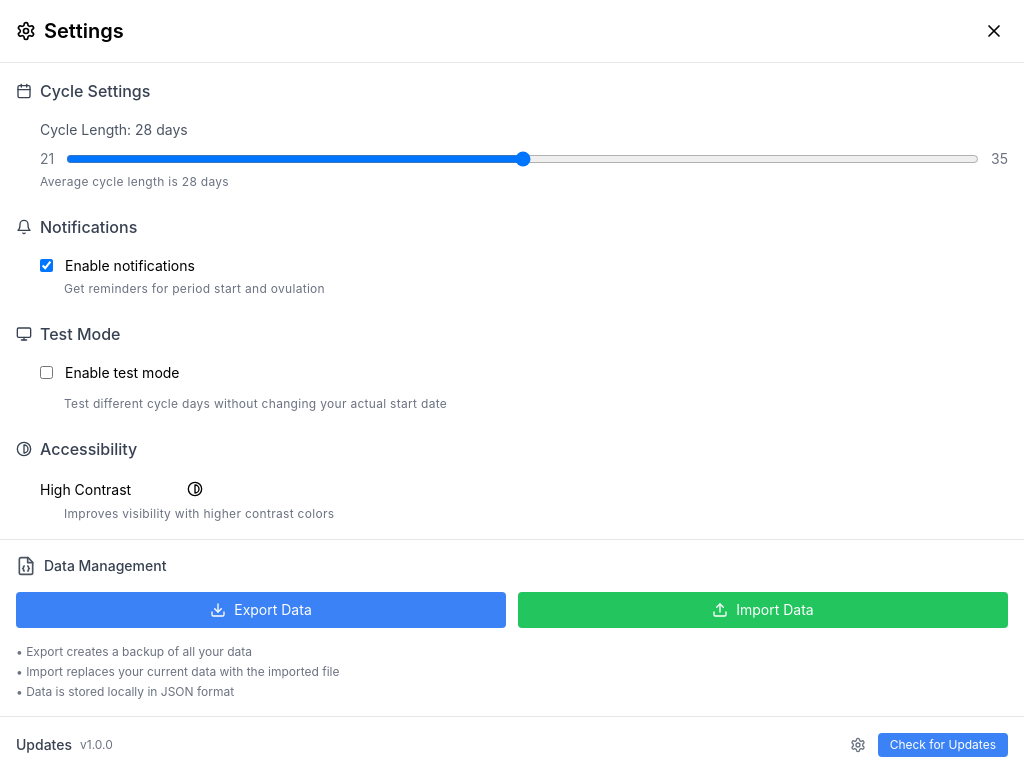
Test: SettingsPanel › updates cycle length with slider
The image size is (1024, 768).
Set the slider to "30" at {"x": 651, "y": 158}, box [66,150,979,166]
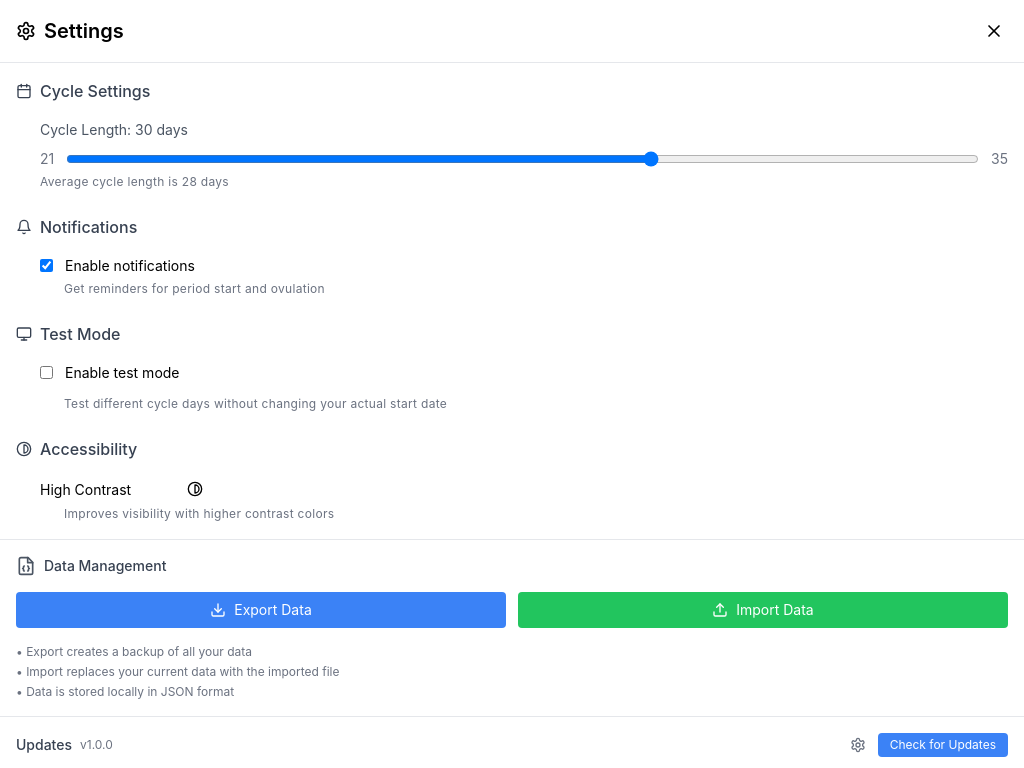
expect the text "Cycle Length: 30 days" is shown: met, box [40,119,188,140]
